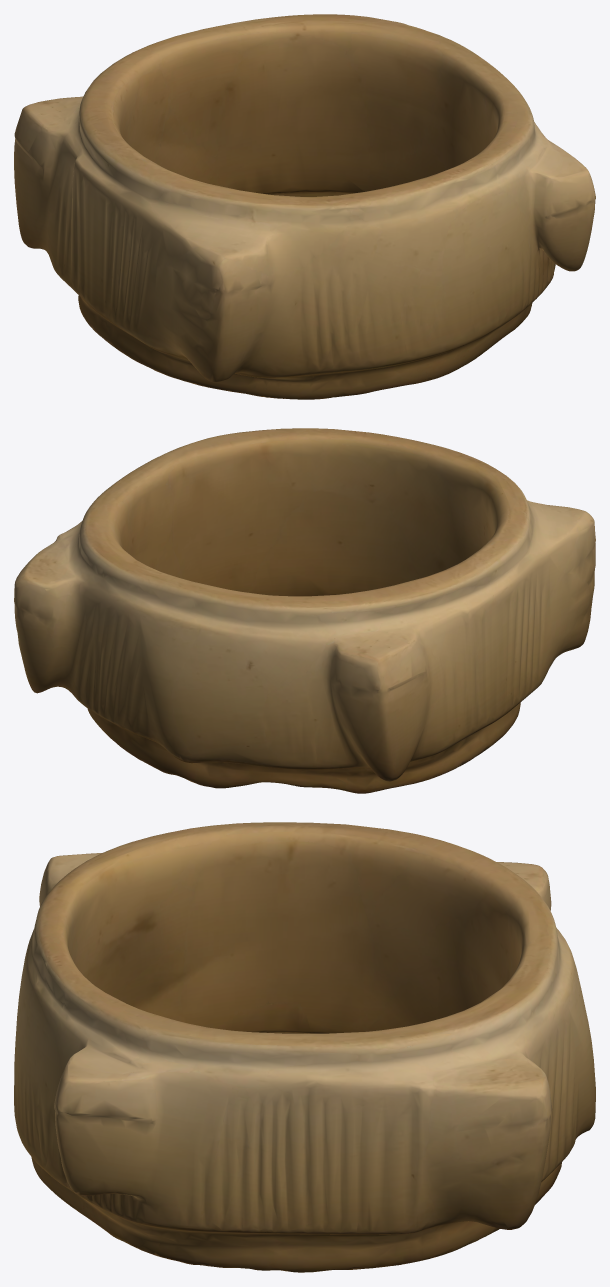
File: shang.glb
3 renders of one model, top to bottom at view 1: azimuth 30°, elevation 25°; view 2: azimuth 150°, elevation 25°; view 3: azimuth 270°, elevation 25°, orthographic. The views are drawn at different scales.
Visible parts, largest first — view 1: node_0; view 2: node_0; view 3: node_0.
Boxes of the visible parts, left/top/right/bottom form: node_0: left=14, top=14, right=595, bottom=399; node_0: left=14, top=428, right=595, bottom=793; node_0: left=14, top=822, right=595, bottom=1272.
Size of the model in its own units: 0.8984 by 0.4164 by 0.9298.
Materials: 1 (1 with a texture image).
